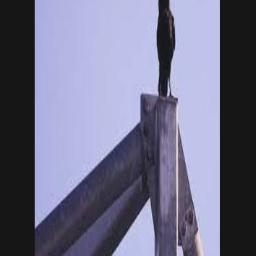Crow: (153, 0, 175, 97)
